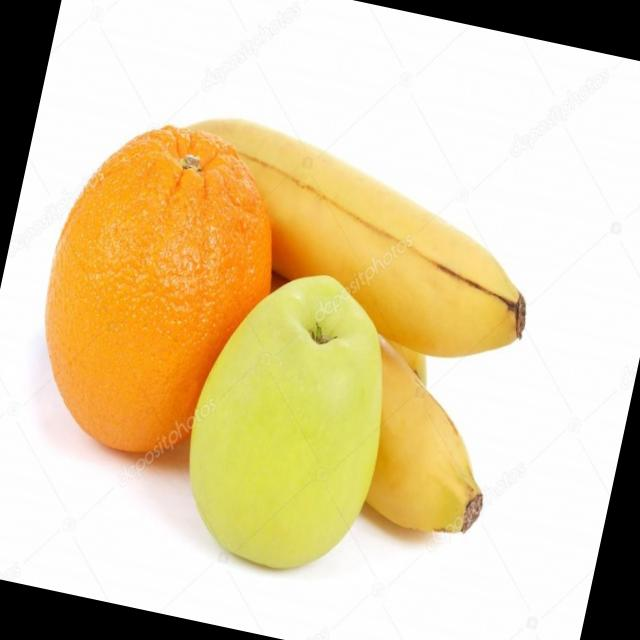banana: (127, 218, 540, 556), (133, 90, 577, 372)
orange: (8, 98, 312, 493)
